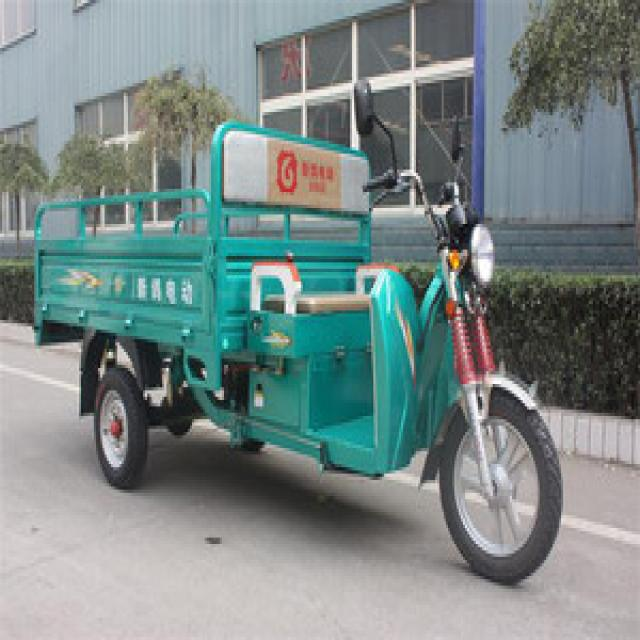tricycle: (30, 77, 563, 579)
